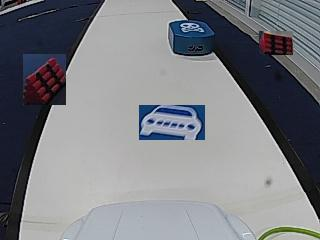danger: (180, 21, 204, 32)
